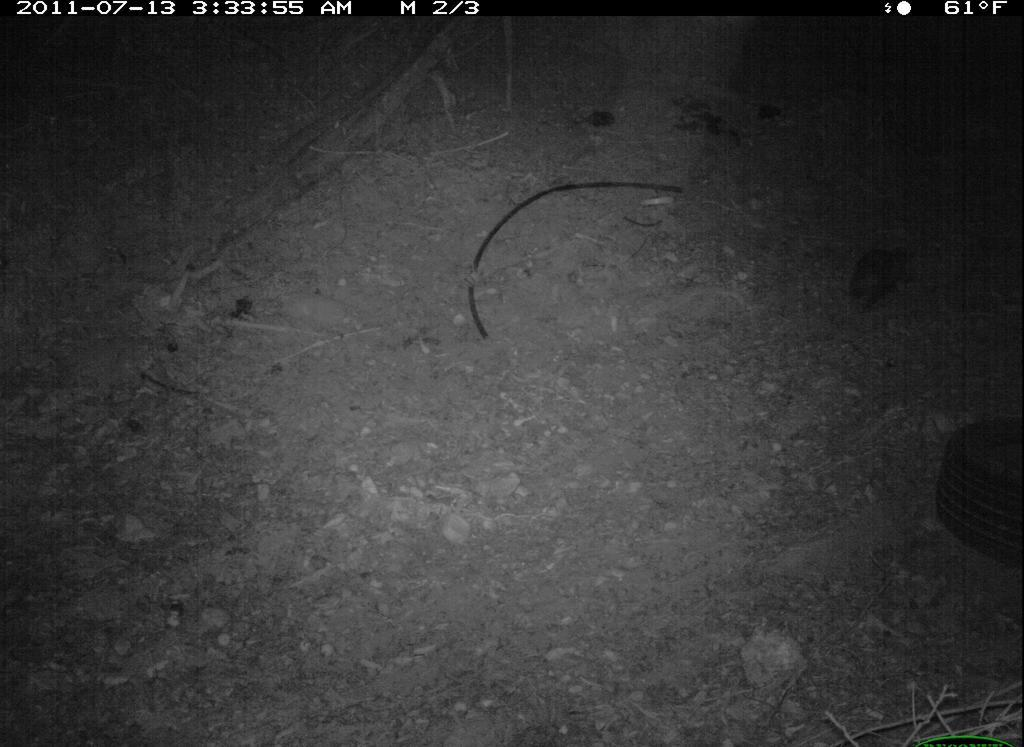opossum: (843, 233, 921, 319)
